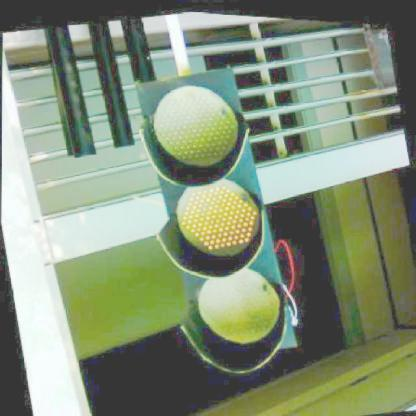Traffic Light -Yellow-: (124, 58, 300, 385)
